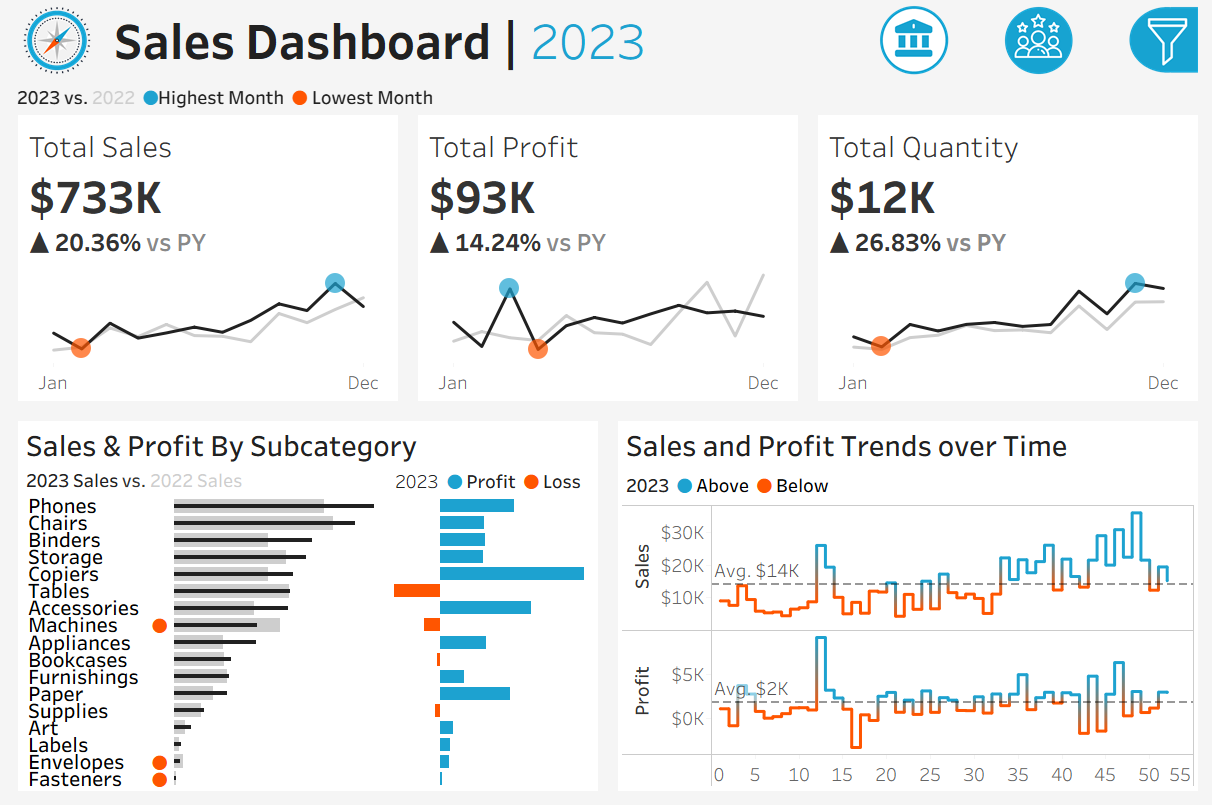

The dashboard page shown, as its layout file describes it:
{"tool":"tableau","page":{"name":"Sales Dashboard","canvas":[1200,800],"ordinal":1},"visuals":[{"type":"image","param":"Image/Icon - Logo.png","box":[0,0,98,78]},{"type":"text","box":[98,0,728,78]},{"type":"dashboard-object","box":[844,0,124,78]},{"type":"dashboard-object","box":[968,0,124,78]},{"type":"blank","box":[916,10,271,130]},{"type":"worksheet","title":"D1.Legend KPI","mark":"Automatic","box":[0,78,1200,36]},{"type":"worksheet","title":"D1.KPI Sales ","mark":"Automatic","rows":["Calculation_0986559783493633"],"cols":["Order Date"],"box":[0,114,400,296]},{"type":"worksheet","title":"D1.KPI Profit","mark":"Automatic","rows":["Calculation_0807064599609347"],"cols":["Order Date"],"box":[400,114,400,296]},{"type":"worksheet","title":"D1.KPI Quantity","mark":"Line","rows":["Calculation_0807064900612107"],"cols":["Order Date"],"box":[800,114,400,296]},{"type":"text","box":[916,140,271,47]},{"type":"parameter","param":"[Parameters].[Parameter 1]","box":[916,187,271,76]},{"type":"blank","box":[916,263,271,32]},{"type":"text","box":[916,295,271,39]},{"type":"filter","title":"D1.KPI Sales ","param":"[federated.0ahvkyk1p808id13zwera1scxx4p].[none:Category:nk]","box":[916,334,271,70]},{"type":"filter","title":"D1.KPI Sales ","param":"[federated.0ahvkyk1p808id13zwera1scxx4p].[none:Sub-Category:nk]","box":[916,404,271,92]},{"type":"text","box":[10,420,580,47]},{"type":"text","box":[610,420,580,47]},{"type":"worksheet","title":"D1.Legend Subcategory","mark":"Automatic","box":[10,467,369,25]},{"type":"text","box":[379,467,211,25]},{"type":"text","box":[610,467,580,33]},{"type":"worksheet","title":"D1.Subcategory Comparison","mark":"Bar","rows":["Sub-Category","Calculation_0807065333563413"],"cols":["Calculation_1346100063707137","Calculation_1346100062363648","Calculation_0807064586989568"],"box":[10,492,580,298]},{"type":"blank","box":[916,496,271,25]},{"type":"worksheet","title":"D1.Weekly Trends","mark":"Automatic","rows":["Calculation_1346100062363648","Calculation_0807064586989568"],"cols":["Order Date"],"box":[610,500,580,290]},{"type":"text","box":[916,521,271,39]},{"type":"filter","title":"D1.KPI Sales ","param":"[federated.0ahvkyk1p808id13zwera1scxx4p].[none:Region:nk]","box":[916,560,271,70]},{"type":"filter","title":"D1.KPI Sales ","param":"[federated.0ahvkyk1p808id13zwera1scxx4p].[none:State:nk]","box":[916,630,271,70]},{"type":"filter","title":"D1.KPI Sales ","param":"[federated.0ahvkyk1p808id13zwera1scxx4p].[none:City:nk]","box":[916,700,271,70]}]}

Visuals, with their boxes in screenshot pixels (x1, y1, x2, y2), scaled from the page's 1200x800 canvas onto the 1212x805 screenshot:
image: bbox=(0, 0, 99, 78)
text: bbox=(99, 0, 834, 78)
dashboard-object: bbox=(852, 0, 978, 78)
dashboard-object: bbox=(978, 0, 1103, 78)
blank: bbox=(925, 10, 1199, 141)
"D1.Legend KPI" worksheet: bbox=(0, 78, 1211, 115)
"D1.KPI Sales " worksheet: bbox=(0, 115, 404, 413)
"D1.KPI Profit" worksheet: bbox=(404, 115, 808, 413)
"D1.KPI Quantity" worksheet (Line marks): bbox=(808, 115, 1211, 413)
text: bbox=(925, 141, 1199, 188)
parameter: bbox=(925, 188, 1199, 265)
blank: bbox=(925, 265, 1199, 297)
text: bbox=(925, 297, 1199, 336)
"D1.KPI Sales " filter: bbox=(925, 336, 1199, 407)
"D1.KPI Sales " filter: bbox=(925, 407, 1199, 499)
text: bbox=(10, 423, 596, 470)
text: bbox=(616, 423, 1202, 470)
"D1.Legend Subcategory" worksheet: bbox=(10, 470, 383, 495)
text: bbox=(383, 470, 596, 495)
text: bbox=(616, 470, 1202, 503)
"D1.Subcategory Comparison" worksheet (Bar marks): bbox=(10, 495, 596, 795)
blank: bbox=(925, 499, 1199, 524)
"D1.Weekly Trends" worksheet: bbox=(616, 503, 1202, 795)
text: bbox=(925, 524, 1199, 564)
"D1.KPI Sales " filter: bbox=(925, 564, 1199, 634)
"D1.KPI Sales " filter: bbox=(925, 634, 1199, 704)
"D1.KPI Sales " filter: bbox=(925, 704, 1199, 775)
